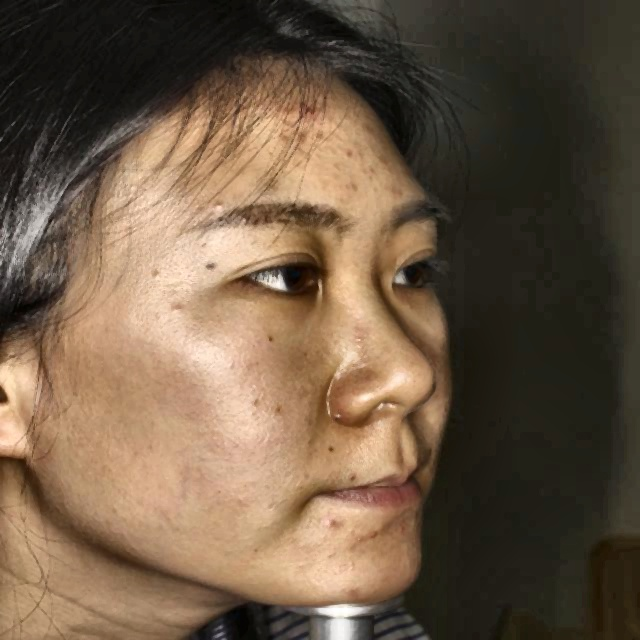comedone: (289, 100, 327, 117), (348, 119, 380, 134), (317, 517, 343, 527)
